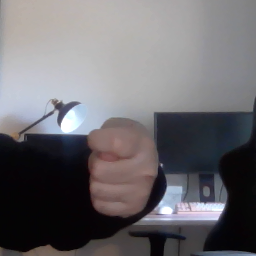T: (82, 116, 160, 220)
